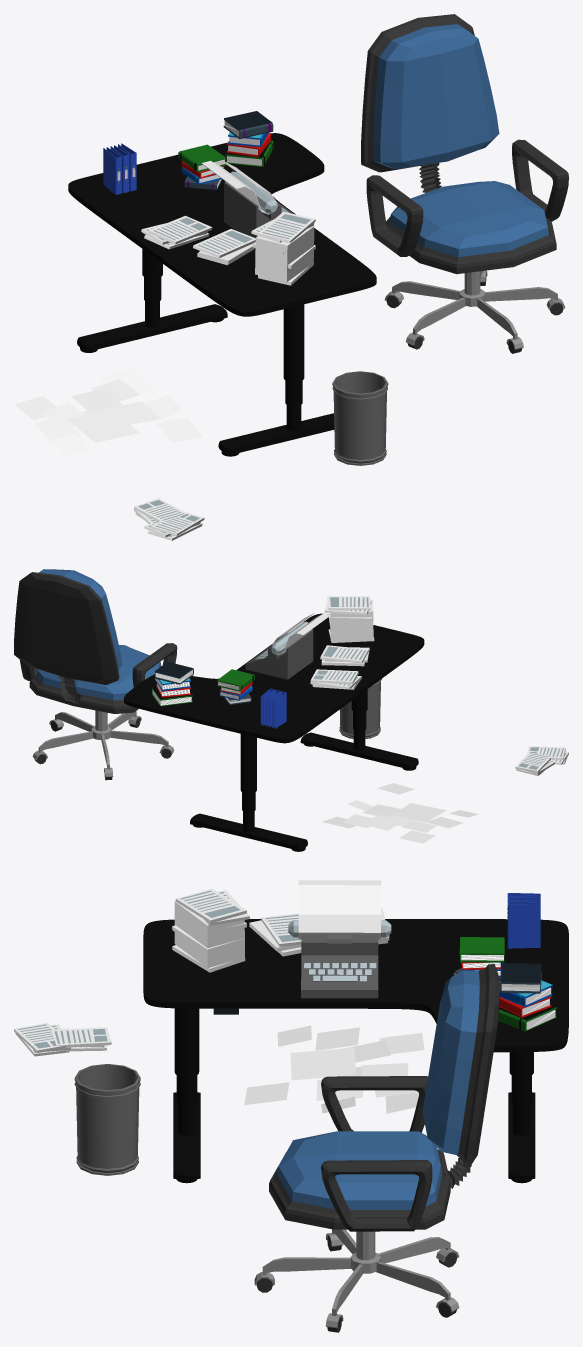
File: office.glb
The picture shows the model from 3 angles, top to bottom: view 1: azimuth 30°, elevation 25°; view 2: azimuth 150°, elevation 25°; view 3: azimuth 270°, elevation 25°; orthographic projection. The views are drawn at different scales.
Visible parts, largest first — view 1: OfficeChair2, MyDesk, Sticky notes2, Model3, Trashcan_Cylindric2, Cube_025, bookstack2, bookstack, Model, Model2, Binder; view 2: OfficeChair2, MyDesk, Model3, Sticky notes2, Cube_025, bookstack2, Trashcan_Cylindric2, bookstack, Model2, Binder, Model; view 3: OfficeChair2, MyDesk, Cube_025, Sticky notes2, Trashcan_Cylindric2, Model3, bookstack2, Binder3, bookstack, Model2, Model.
Boxes of the visible parts, bbox=[...] form: OfficeChair2: bbox=[361, 14, 568, 353]; MyDesk: bbox=[68, 133, 376, 456]; Sticky notes2: bbox=[14, 368, 202, 455]; Model3: bbox=[141, 212, 315, 285]; Trashcan_Cylindric2: bbox=[332, 371, 388, 465]; Cube_025: bbox=[201, 160, 293, 237]; bookstack2: bbox=[223, 111, 273, 166]; bookstack: bbox=[178, 144, 226, 189]; Model: bbox=[144, 512, 204, 540]; Model2: bbox=[134, 498, 187, 523]; Binder: bbox=[103, 147, 121, 194]; OfficeChair2: bbox=[14, 569, 177, 780]; MyDesk: bbox=[124, 613, 424, 851]; Model3: bbox=[310, 596, 374, 689]; Sticky notes2: bbox=[322, 783, 478, 843]; Cube_025: bbox=[245, 612, 330, 679]; bookstack2: bbox=[152, 662, 193, 706]; Trashcan_Cylindric2: bbox=[339, 679, 381, 738]; bookstack: bbox=[217, 669, 254, 704]; Model2: bbox=[515, 752, 554, 775]; Binder: bbox=[272, 691, 286, 728]; Model: bbox=[527, 746, 568, 764]; OfficeChair2: bbox=[254, 964, 500, 1332]; MyDesk: bbox=[143, 919, 568, 1183]; Cube_025: bbox=[288, 880, 391, 998]; Sticky notes2: bbox=[244, 1025, 424, 1113]; Trashcan_Cylindric2: bbox=[74, 1064, 140, 1175]; Model3: bbox=[172, 888, 389, 972]; bookstack2: bbox=[498, 963, 556, 1031]; Binder3: bbox=[507, 901, 540, 948]; bookstack: bbox=[453, 937, 504, 979]; Model2: bbox=[51, 1027, 111, 1051]; Model: bbox=[14, 1022, 70, 1056].
Bounding box in the file's own units: 12.07 × 5.73 × 9.11.
